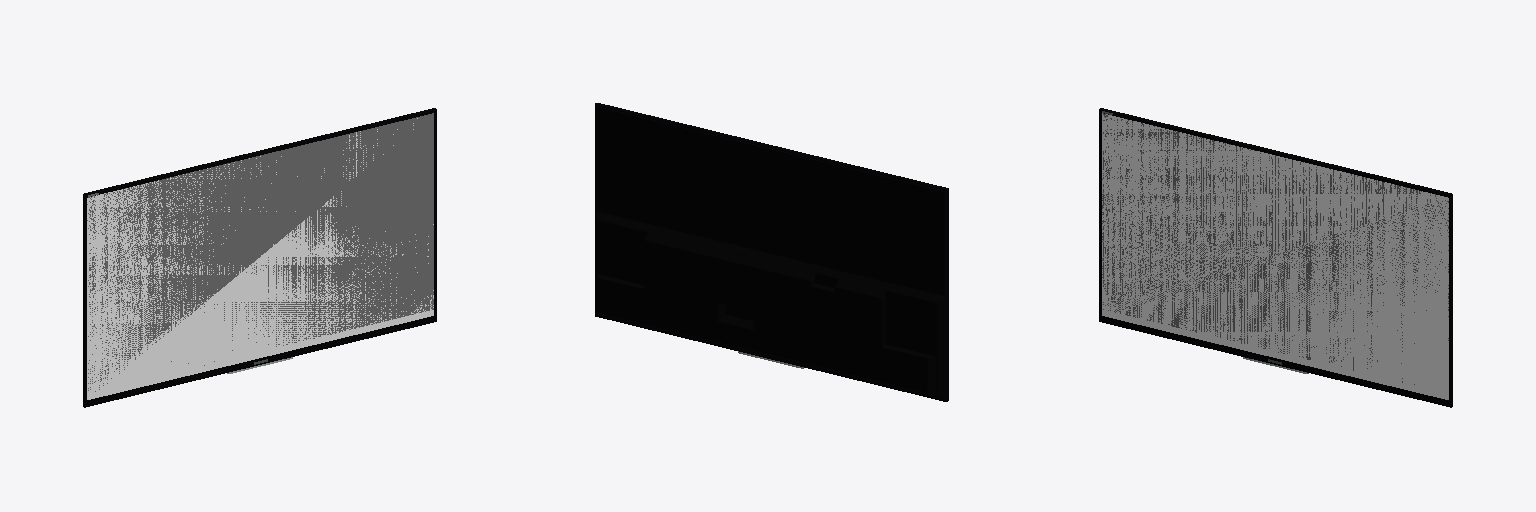
File: Wall+Mount+TV.obj
The picture shows the model from 3 angles: view 1: azimuth 30°, elevation 25°; view 2: azimuth 150°, elevation 25°; view 3: azimuth 330°, elevation 25°; orthographic projection.
Visible parts, largest first — view 1: Mesh5 Model, Mesh1 Sony_KDL42W705B_tv1 Model; view 2: Mesh1 Sony_KDL42W705B_tv1 Model; view 3: Mesh1 Sony_KDL42W705B_tv1 Model, Mesh5 Model.
Boxes of the visible parts, x1,y1,x2,y2 form: Mesh5 Model: [87, 113, 433, 391]; Mesh1 Sony_KDL42W705B_tv1 Model: [83, 108, 436, 407]; Mesh1 Sony_KDL42W705B_tv1 Model: [595, 103, 948, 401]; Mesh1 Sony_KDL42W705B_tv1 Model: [1099, 108, 1452, 407]; Mesh5 Model: [1102, 113, 1448, 384].
Bounding box in the file's own units: 56.53 × 32.82 × 2.72.